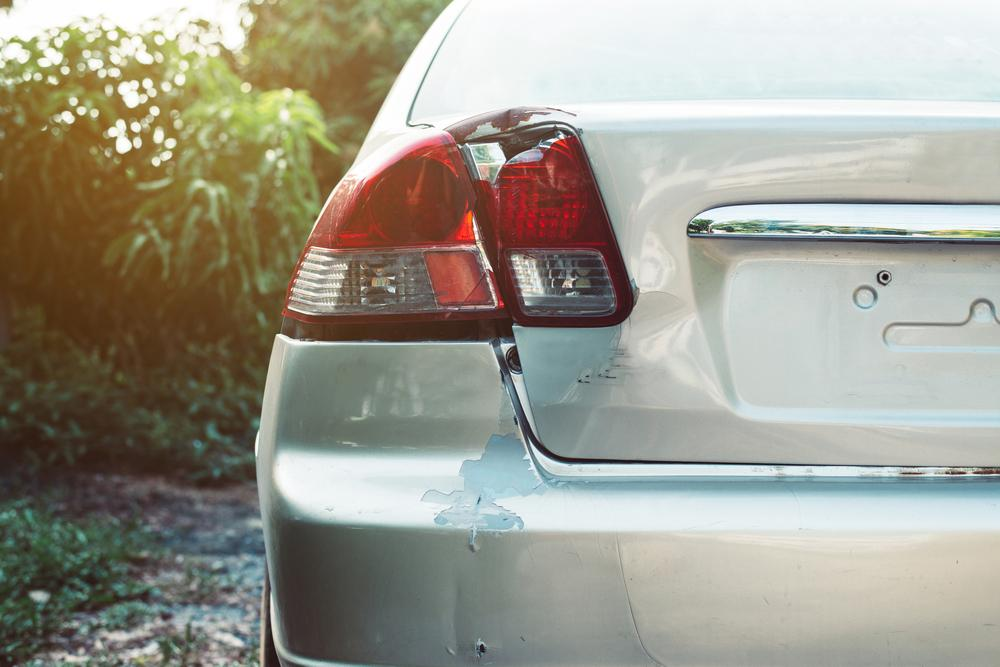dent: (630, 290, 717, 390), (441, 571, 475, 655)
lamp broken: (280, 125, 635, 328)
scratch: (405, 425, 546, 544)
